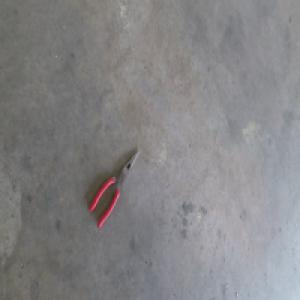Pliers: (89, 147, 140, 224)
